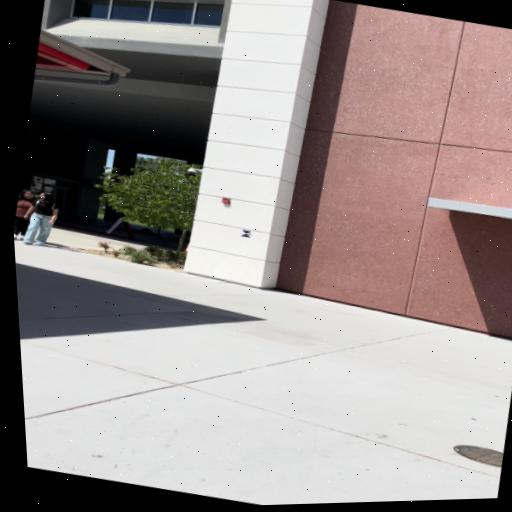target6: (241, 229, 253, 238)
